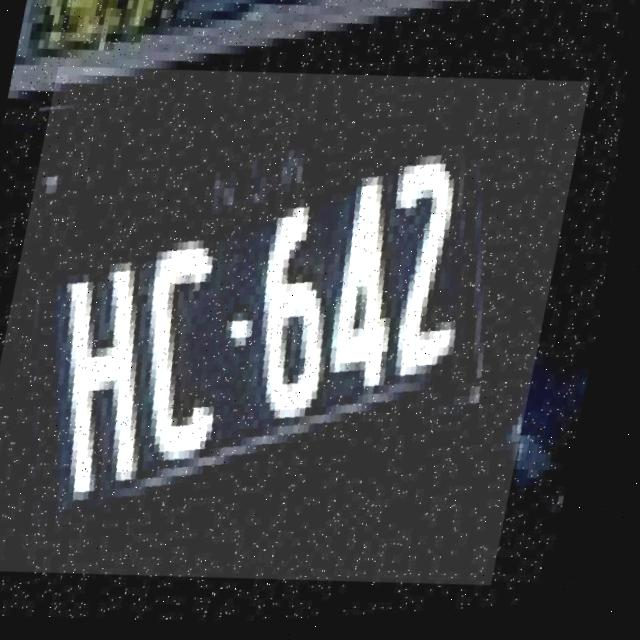LicensePlate: (0, 42, 597, 617)
